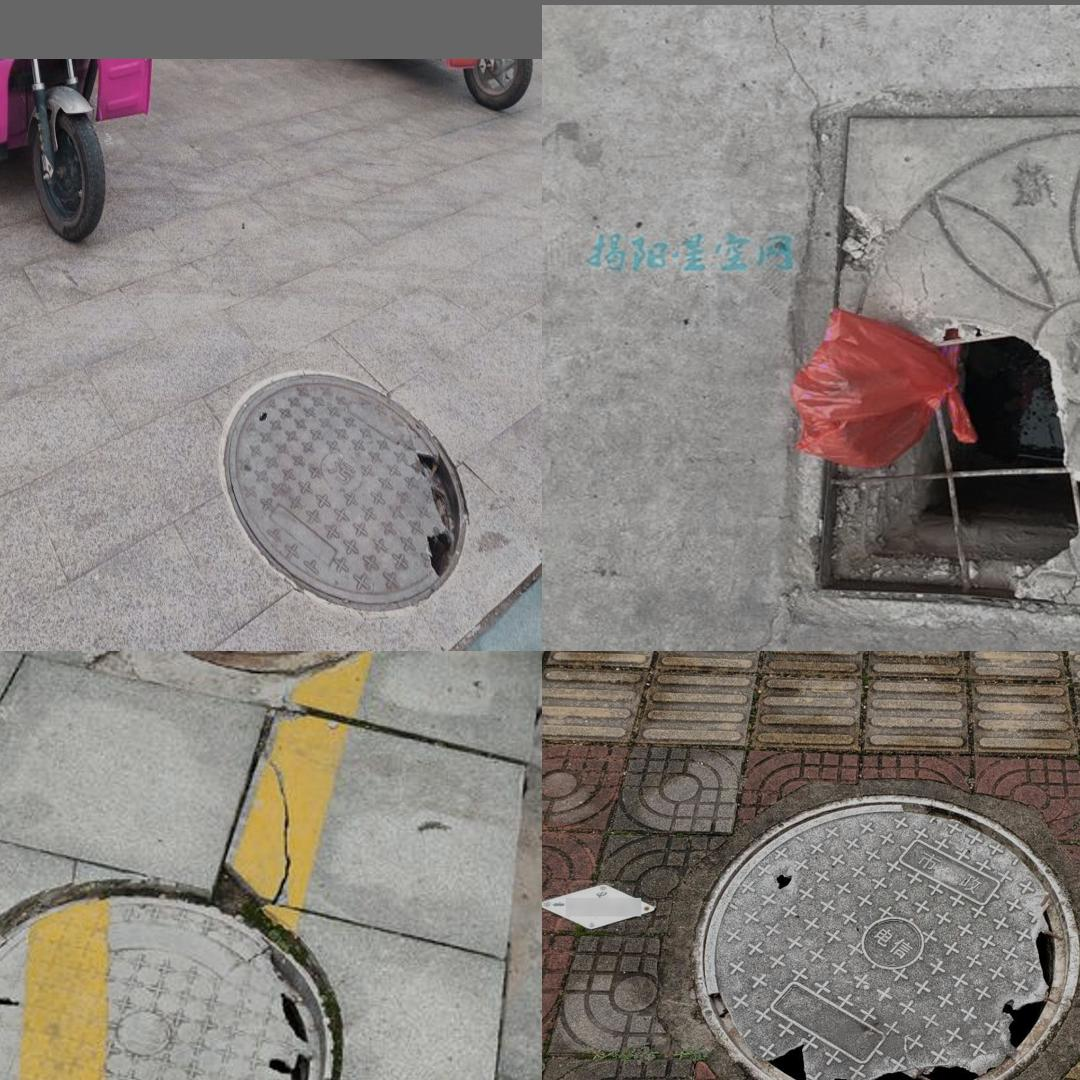broke: (726, 64, 1080, 651), (690, 795, 1080, 1080), (0, 879, 359, 1080), (229, 375, 471, 600)
